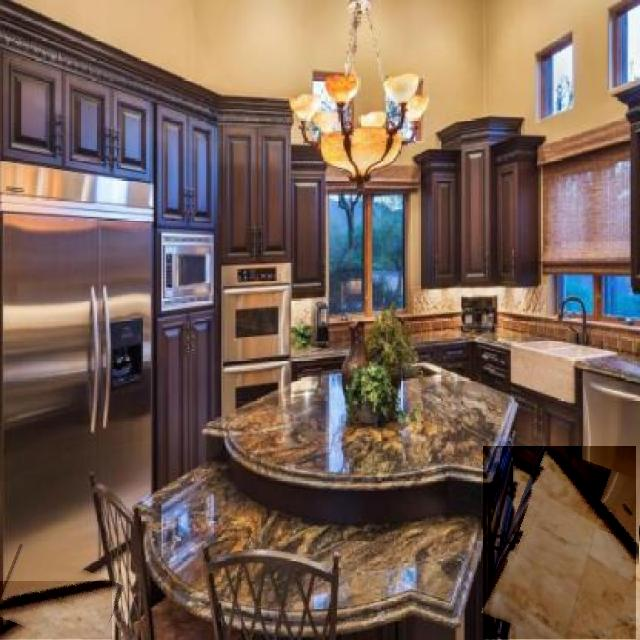floor: (484, 446, 636, 640), (0, 582, 112, 639)
